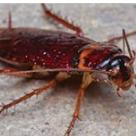cockroach: (0, 26, 134, 91)
